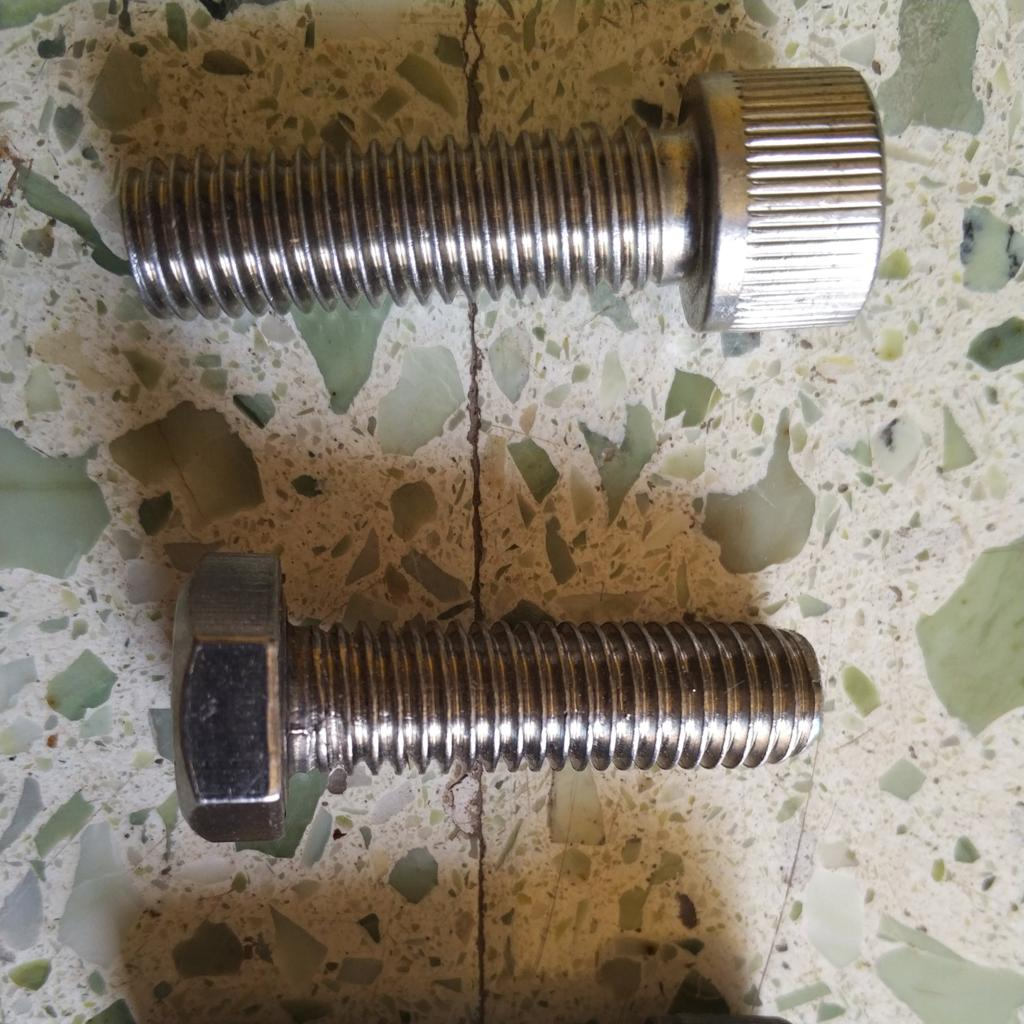screwtype1silver: (118, 59, 894, 348)
screwtype2silver: (164, 541, 828, 856)
